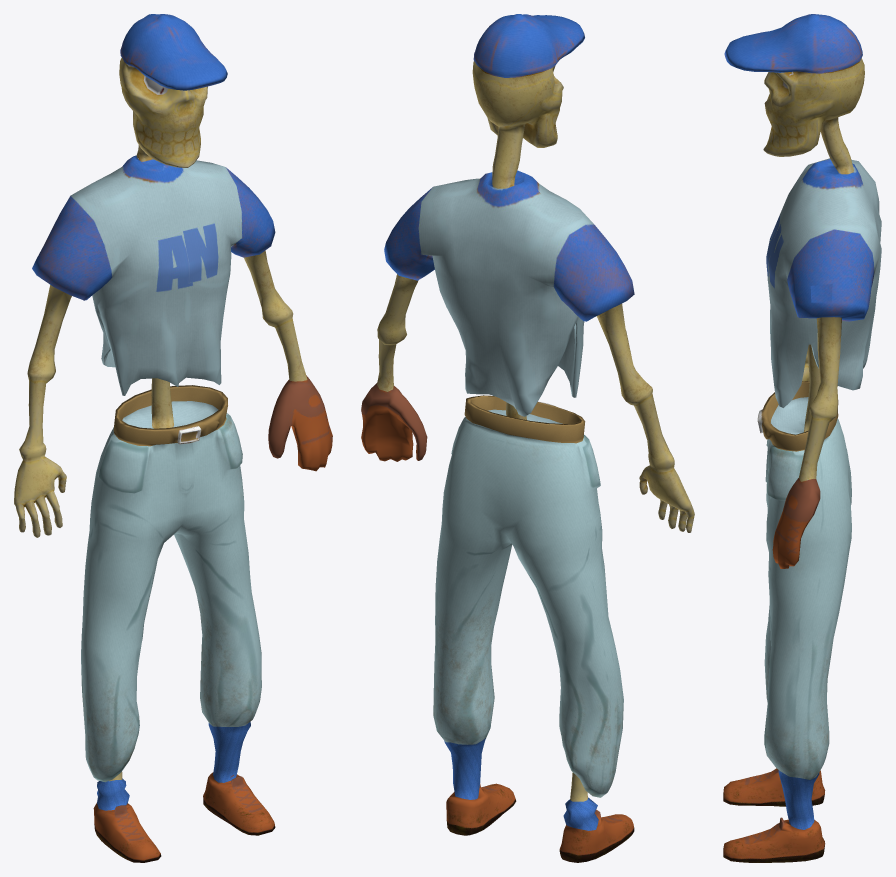
Rendered from baseball-skeleton.glb.
3 views of the same model, side by side, from view 1: azimuth 30°, elevation 25°; view 2: azimuth 150°, elevation 25°; view 3: azimuth 270°, elevation 25° (orthographic). The views are drawn at different scales.
Visible parts, largest first — view 1: Pants_low, Shirt_low, Squelette_low, Shoes_low, Glove_low, Belt_low, Hand_low; view 2: Pants_low, Shirt_low, Squelette_low, Shoes_low, Glove_low, Belt_low, Hand_low; view 3: Pants_low, Shirt_low, Squelette_low, Shoes_low, Glove_low, Belt_low.
Part boxes in pixels (x1,y1,x2,y2): Pants_low: (81,401,261,782); Shirt_low: (32,155,275,395); Squelette_low: (19,14,307,462); Shoes_low: (93,772,275,862); Glove_low: (268,375,332,471); Belt_low: (113,385,227,444); Hand_low: (14,456,66,537); Pants_low: (433,409,623,801); Shirt_low: (384,170,634,416); Squelette_low: (377,14,674,472); Shoes_low: (446,783,634,862); Glove_low: (361,383,427,461); Belt_low: (464,395,585,440); Hand_low: (639,465,694,532); Pants_low: (764,397,851,829); Shirt_low: (766,158,881,407); Squelette_low: (724,14,864,481); Shoes_low: (723,768,825,862); Glove_low: (772,478,820,568); Belt_low: (757,381,838,450).
Bounding box in the file's own units: 0.00827 × 0.02 × 0.00354.
1 material, 1 textured.
